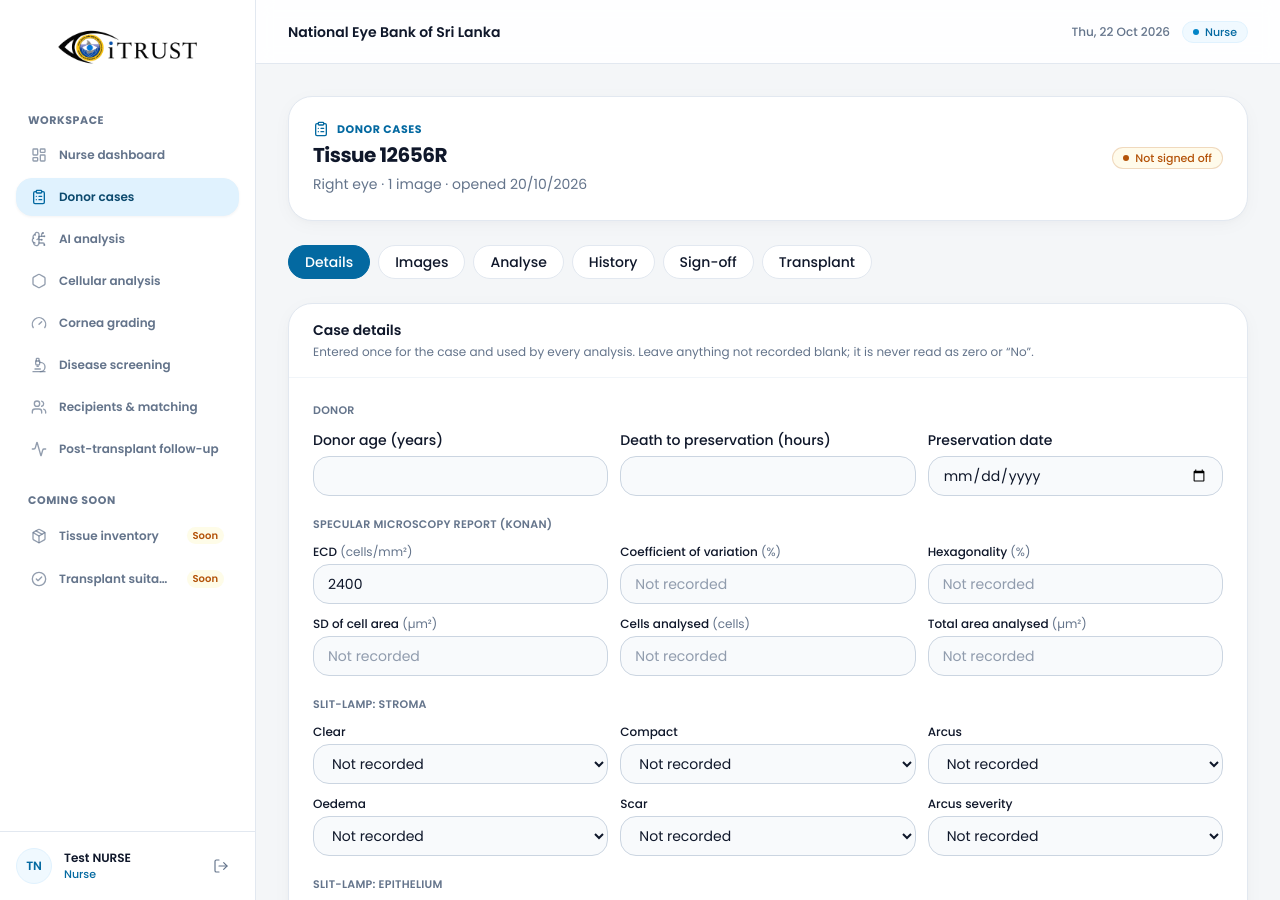
Test: Case workspace › runs the chosen modules and shows a failed module next to the others' results
The image size is (1280, 900).
Click the tab "Analyse".
click(519, 262)  # box [474,245,564,279]
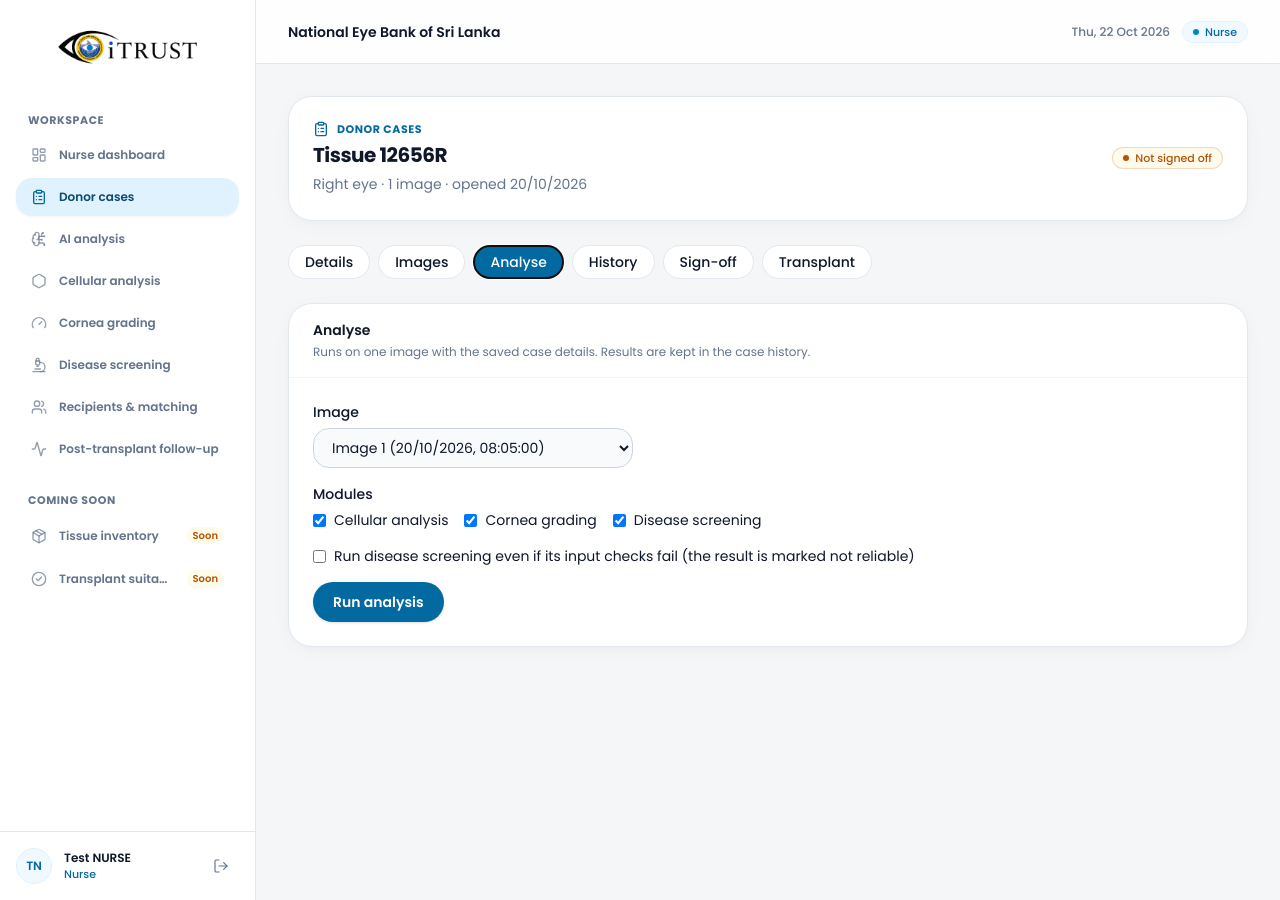
Click the checkbox labelled "Cellular analysis".
click(320, 520)  # box [313,514,326,527]
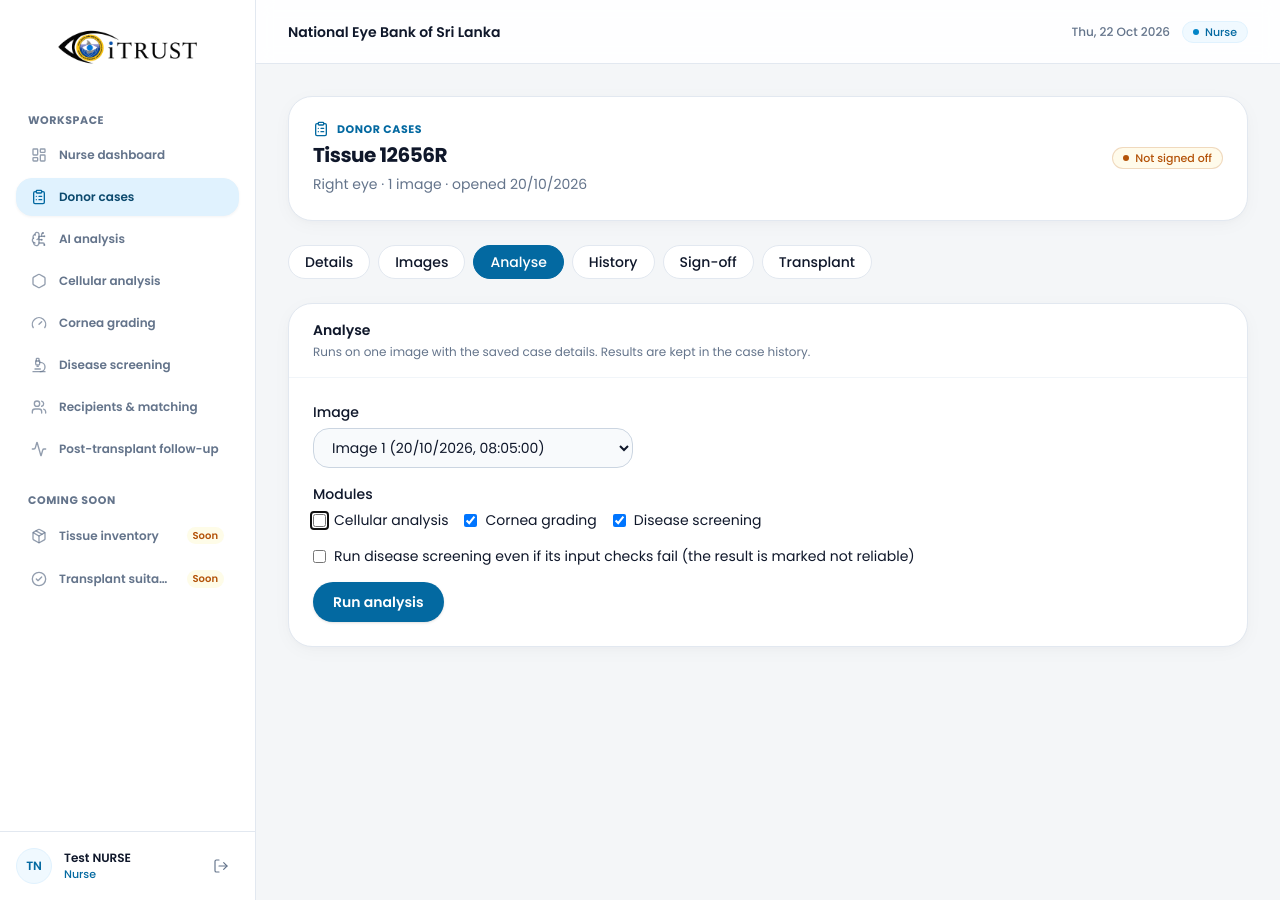
Click the button "Run analysis".
click(378, 602)  # box [313,582,444,622]
(page scrolled)
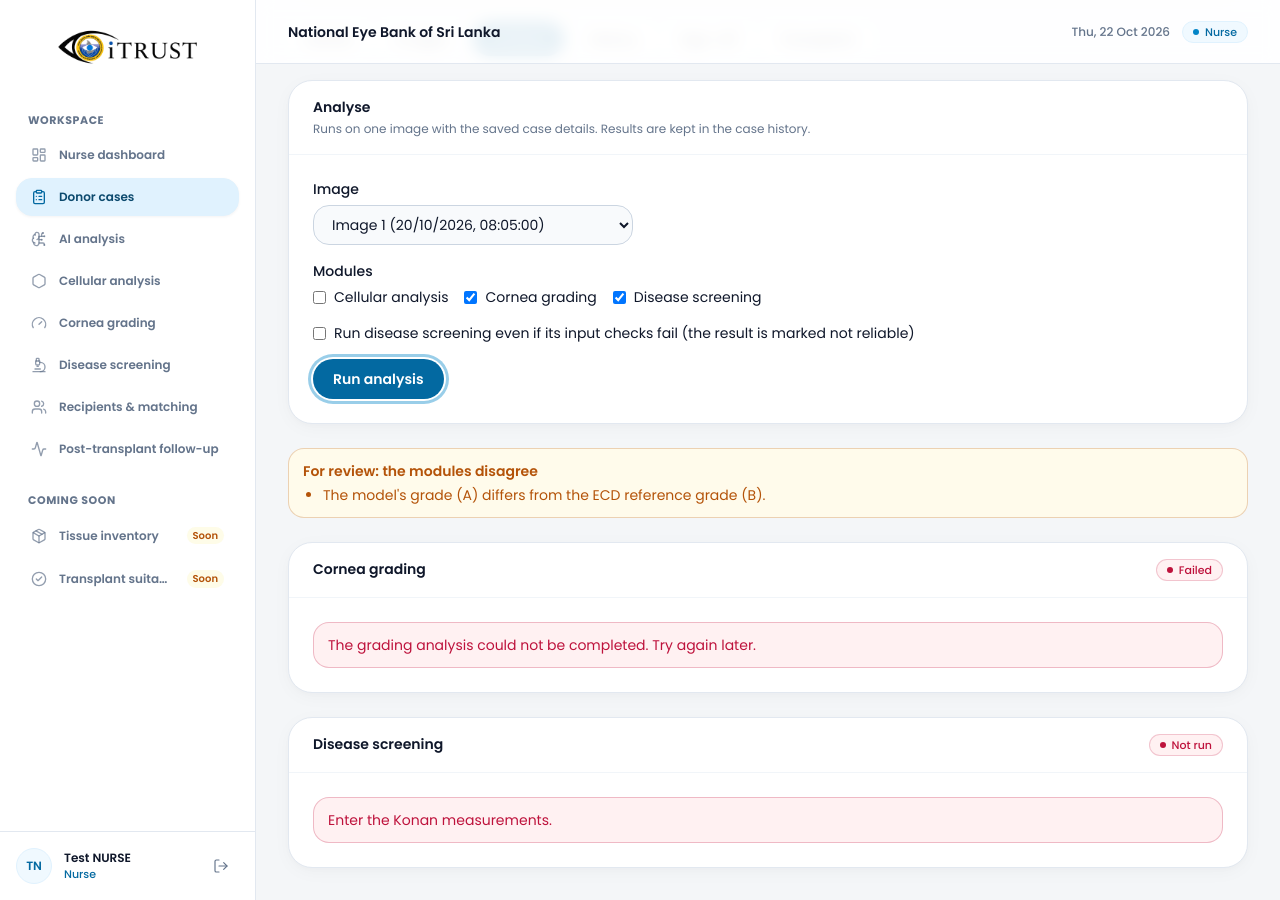
Result: the text "For review: the modules disagree" is shown at [303,461,538,481]
Result: the list item "differs from the ECD reference grade" is shown at [323,485,766,505]
Result: the text "Failed" is shown at [1156,559,1223,581]
